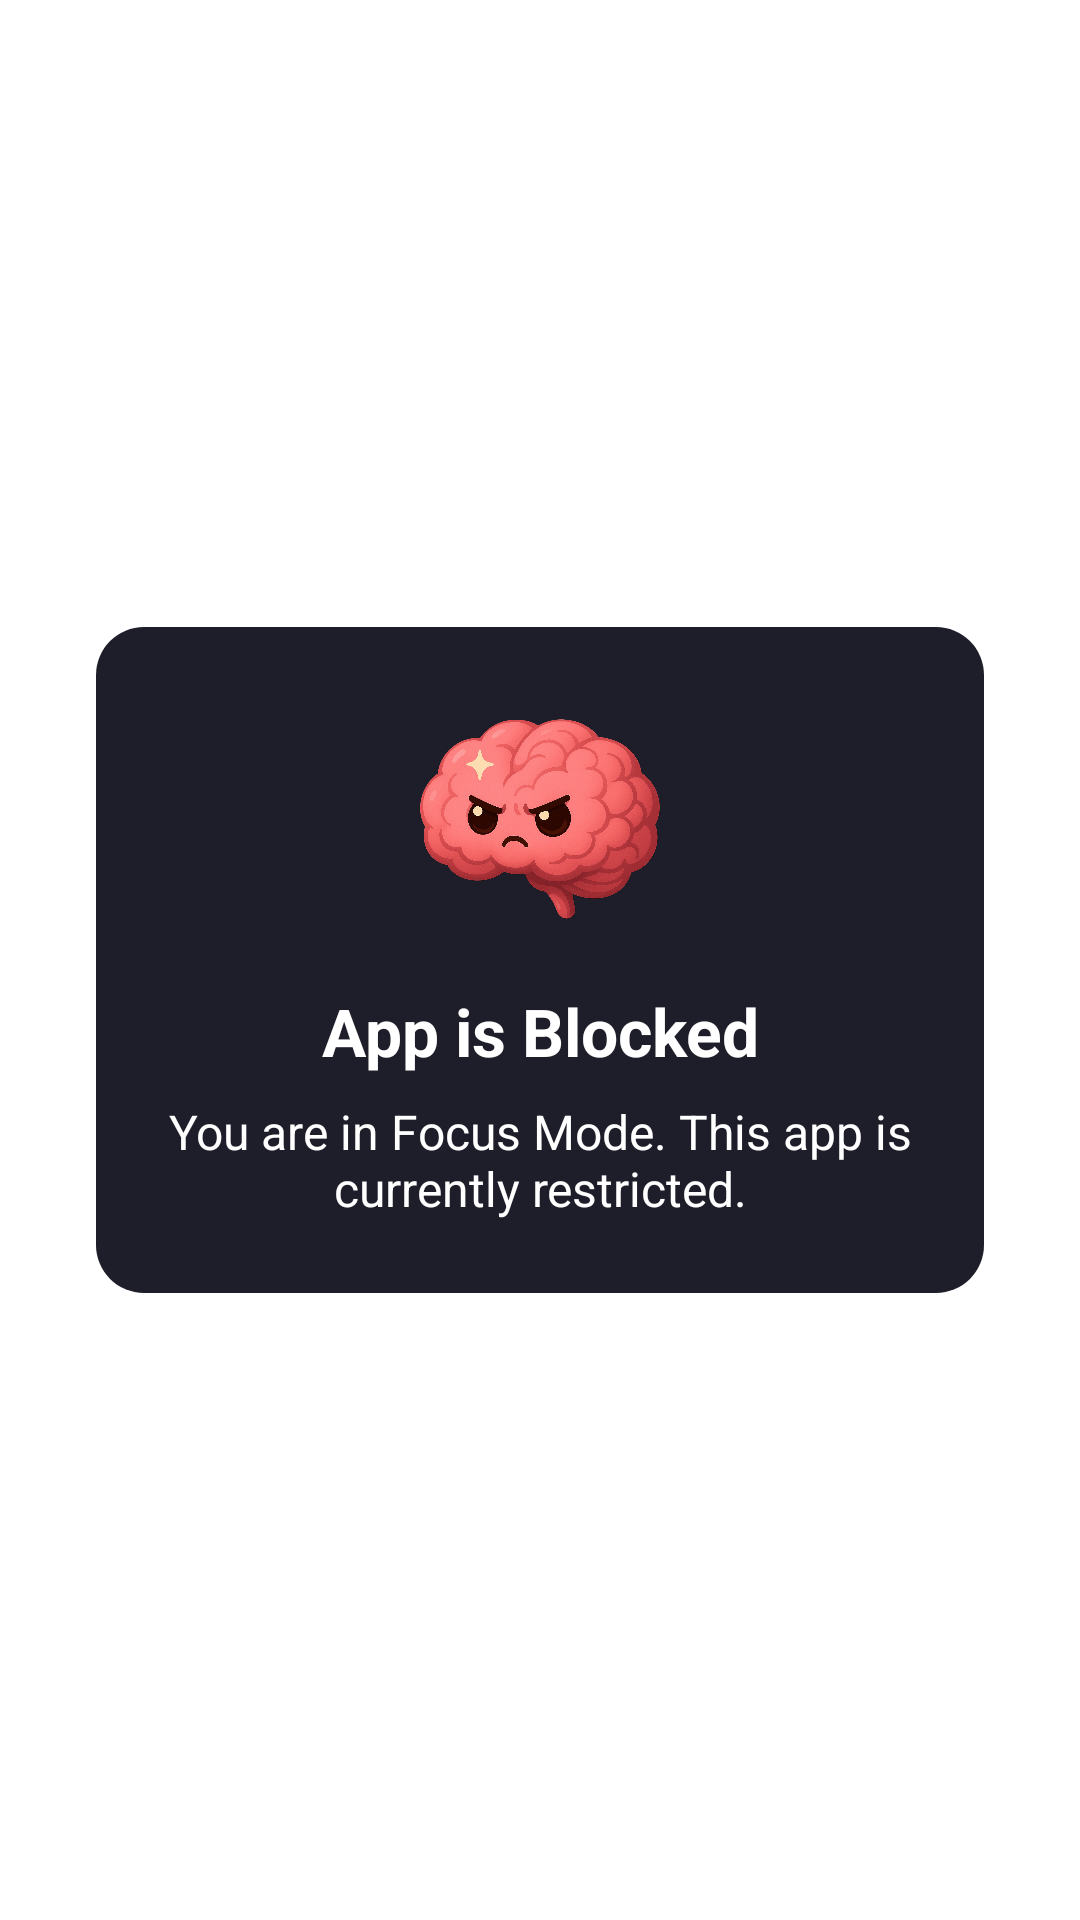

Where icons sit on this 1080w x 1920h app screen, as (x1, y1, x2, y2):
focus brain: (420, 719, 660, 919)
